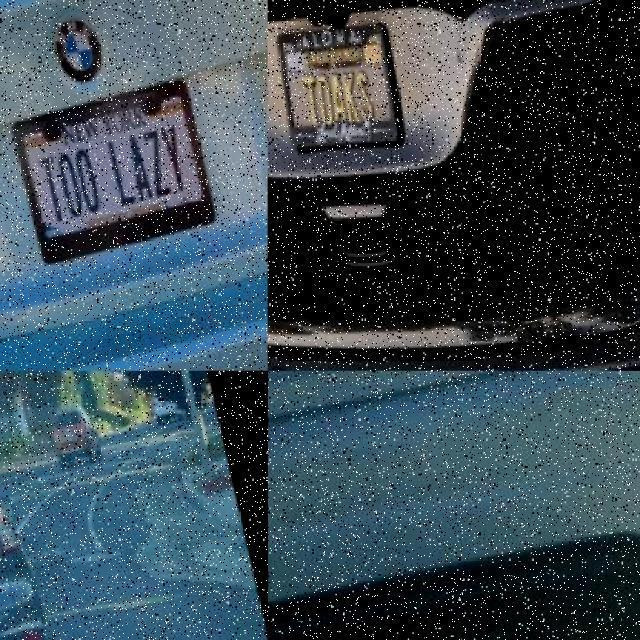LicensePlate: (4, 85, 210, 270), (270, 6, 403, 169), (278, 371, 411, 439), (0, 565, 25, 613), (62, 440, 70, 446)
